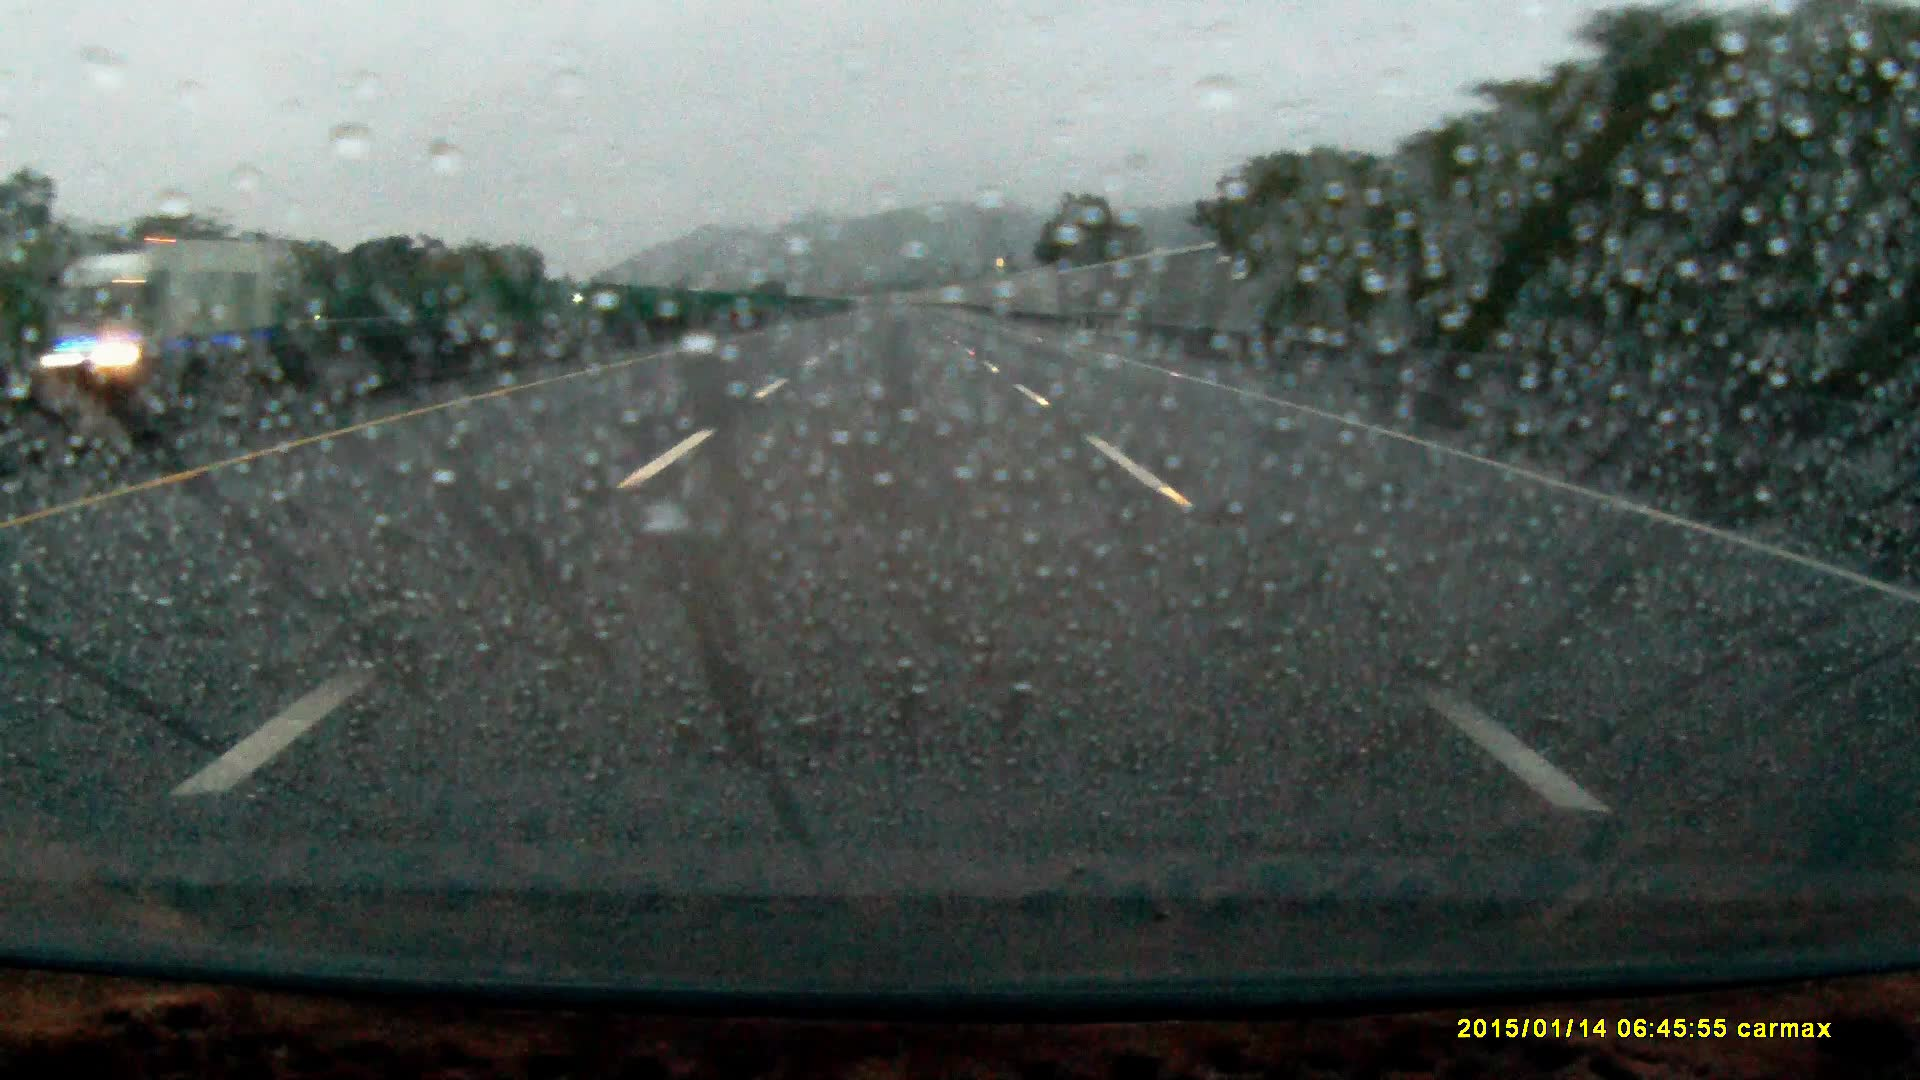vehicle: (44, 231, 291, 397)
